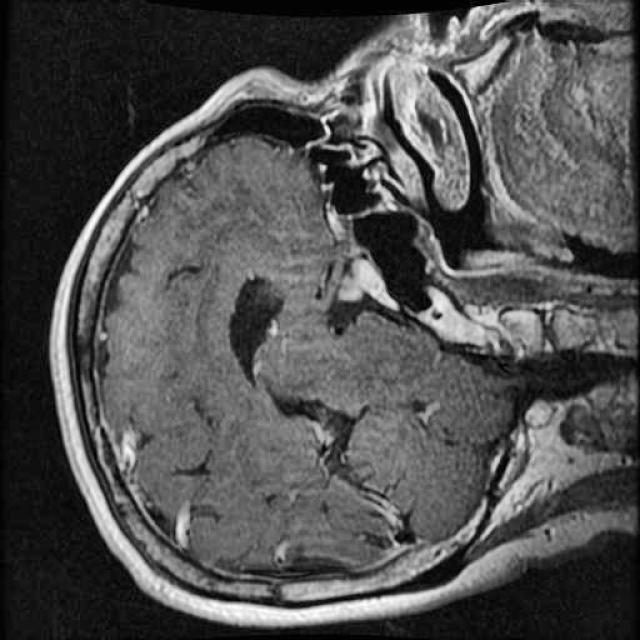Tumor: (326, 246, 399, 315)
